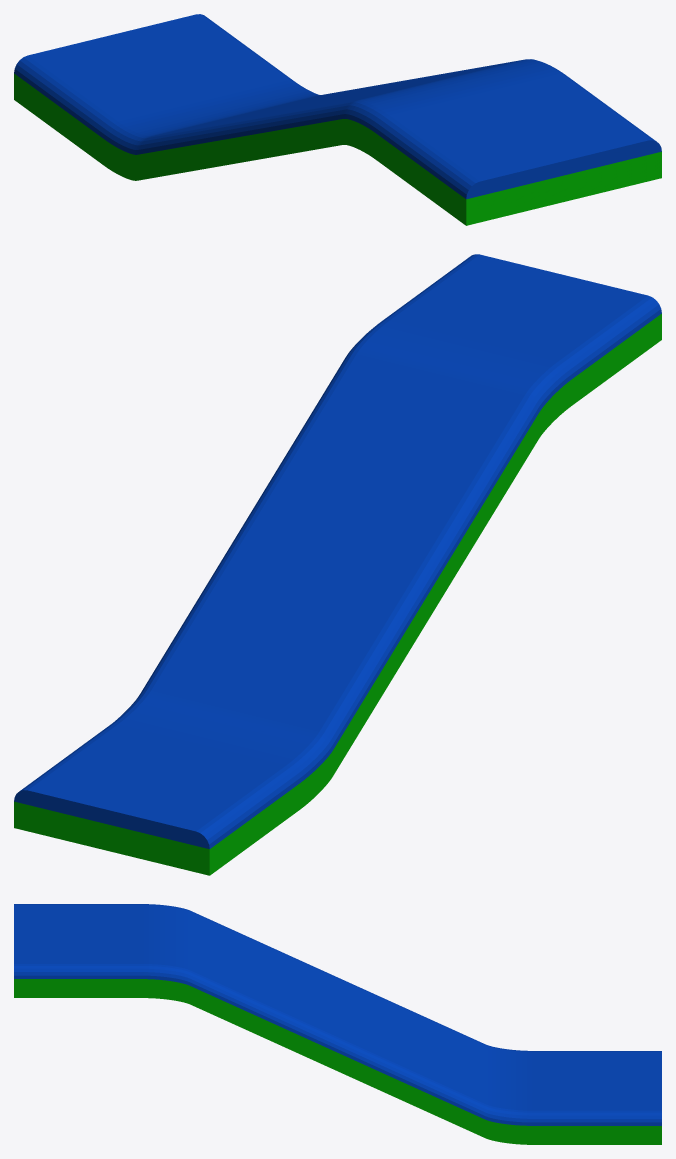
3 views of the same model, one above another, from view 1: azimuth 30°, elevation 25°; view 2: azimuth 150°, elevation 25°; view 3: azimuth 270°, elevation 25° (orthographic). The views are drawn at different scales.
Visible parts, largest first — view 1: plank11; view 2: plank11; view 3: plank11.
Boxes of the visible parts, box(x1,y1,x2,y2) form: plank11: box(14, 14, 661, 225); plank11: box(14, 254, 661, 875); plank11: box(14, 904, 661, 1144).
Bounding box in the file's own units: 500 × 600 × 2000.
